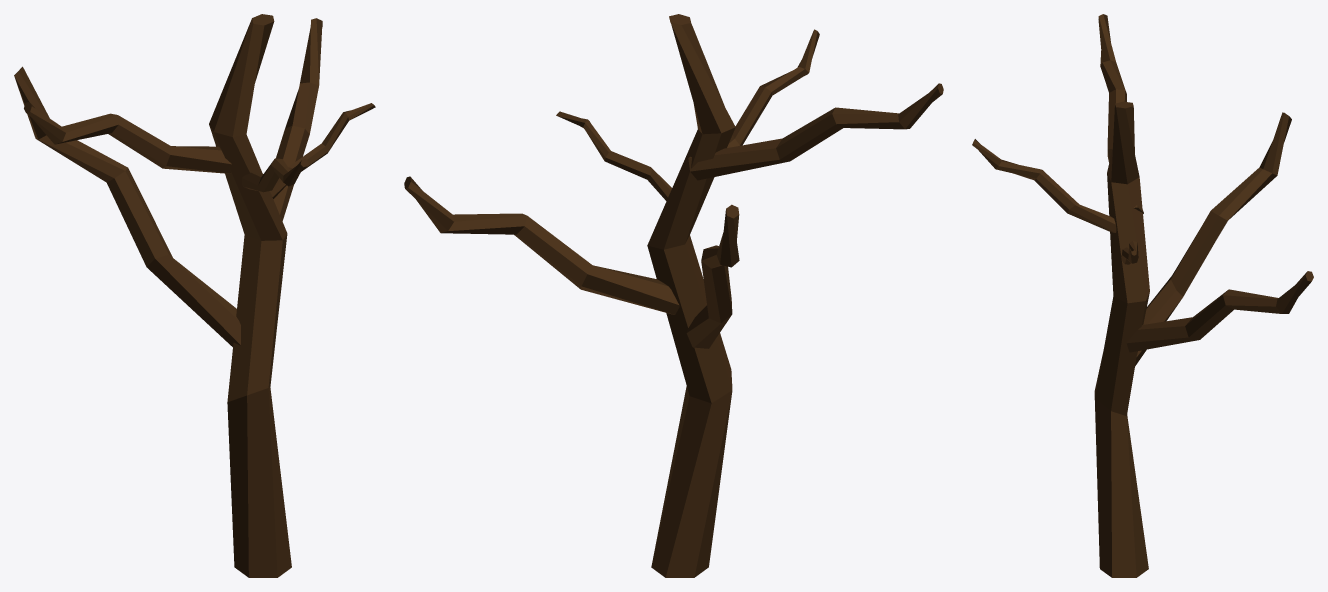
Rendered from Tree_NoleavesUV.fbx.
The picture shows the model from 3 angles, left to right: view 1: azimuth 30°, elevation 25°; view 2: azimuth 150°, elevation 25°; view 3: azimuth 270°, elevation 25°; orthographic projection. The views are drawn at different scales.
Parts seen in each view (by area): view 1: Cylinder.003; view 2: Cylinder.003; view 3: Cylinder.003.
Part boxes in pixels (x1,y1,x2,y2): Cylinder.003: (14, 14, 375, 577); Cylinder.003: (404, 14, 943, 577); Cylinder.003: (972, 14, 1313, 577).
Bounding box in the file's own units: 315 × 396 × 264.
